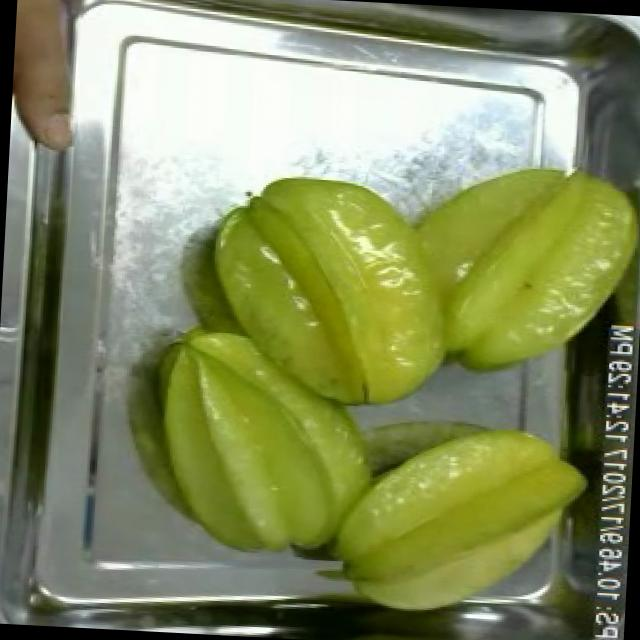fruit: (272, 131, 640, 398), (138, 311, 390, 575), (316, 404, 598, 634), (8, 0, 92, 161)
